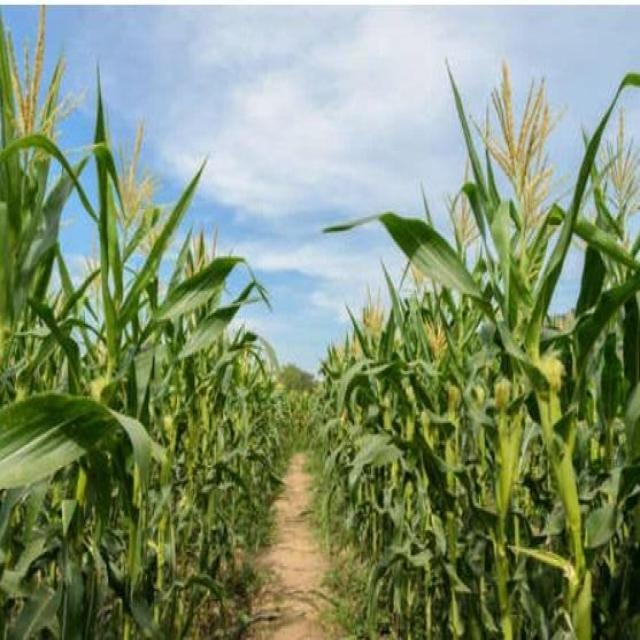row: (175, 441, 412, 640)
